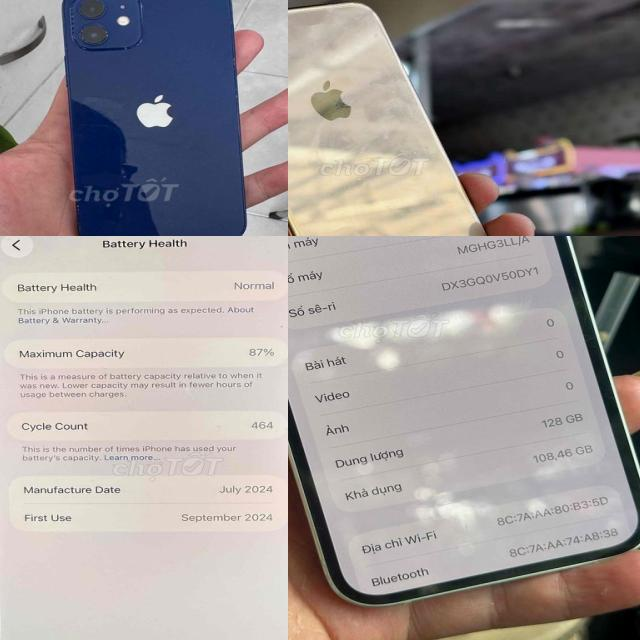gen_12_13: (288, 236, 640, 609), (57, 0, 251, 236)
gen_15: (0, 236, 288, 640)
gen_x_xs: (288, 3, 486, 236)
